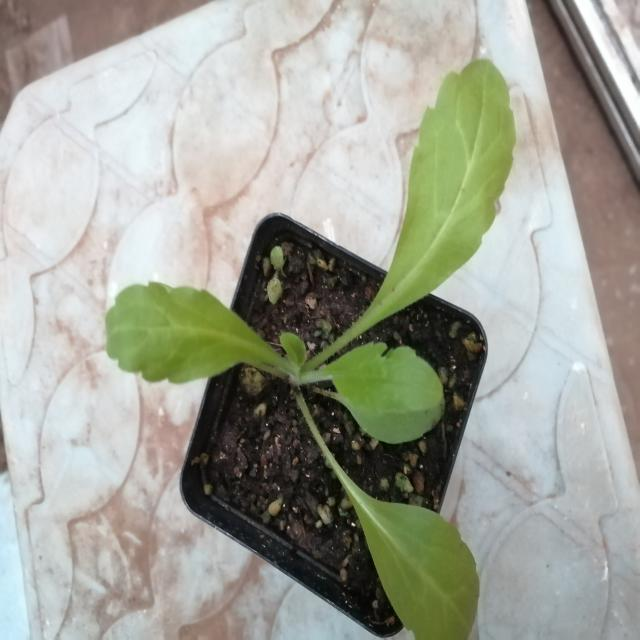horseweed: (145, 71, 513, 619)
